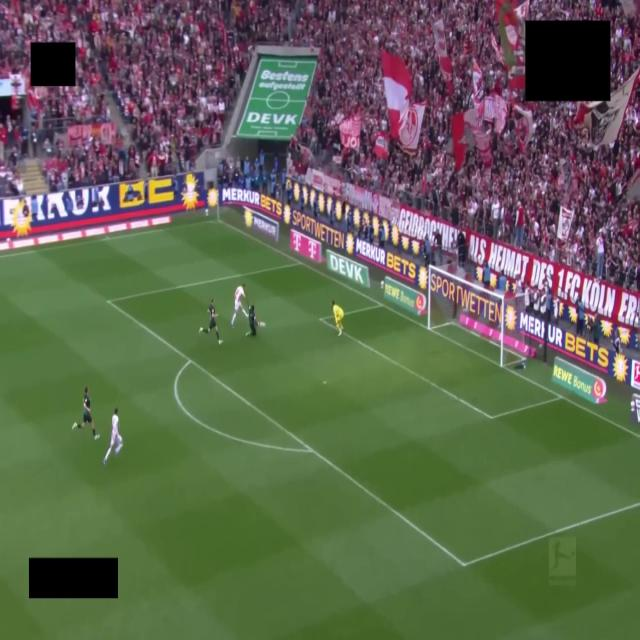player: (72, 387, 99, 439), (104, 408, 122, 464), (200, 299, 222, 344), (231, 285, 248, 327), (246, 305, 264, 336), (332, 302, 344, 335)
